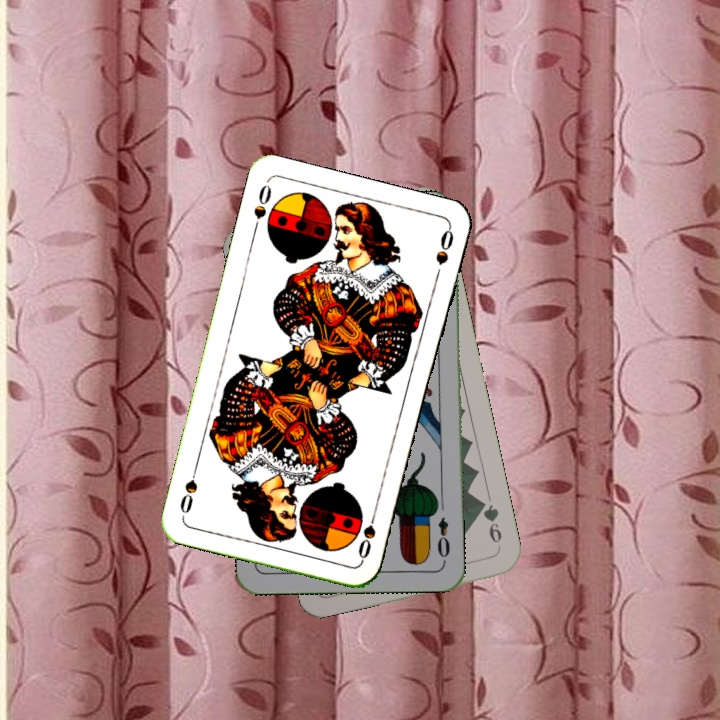EO: (434, 513, 453, 565)
G9: (475, 496, 505, 553)
SO: (354, 505, 379, 563), (249, 180, 274, 237)
